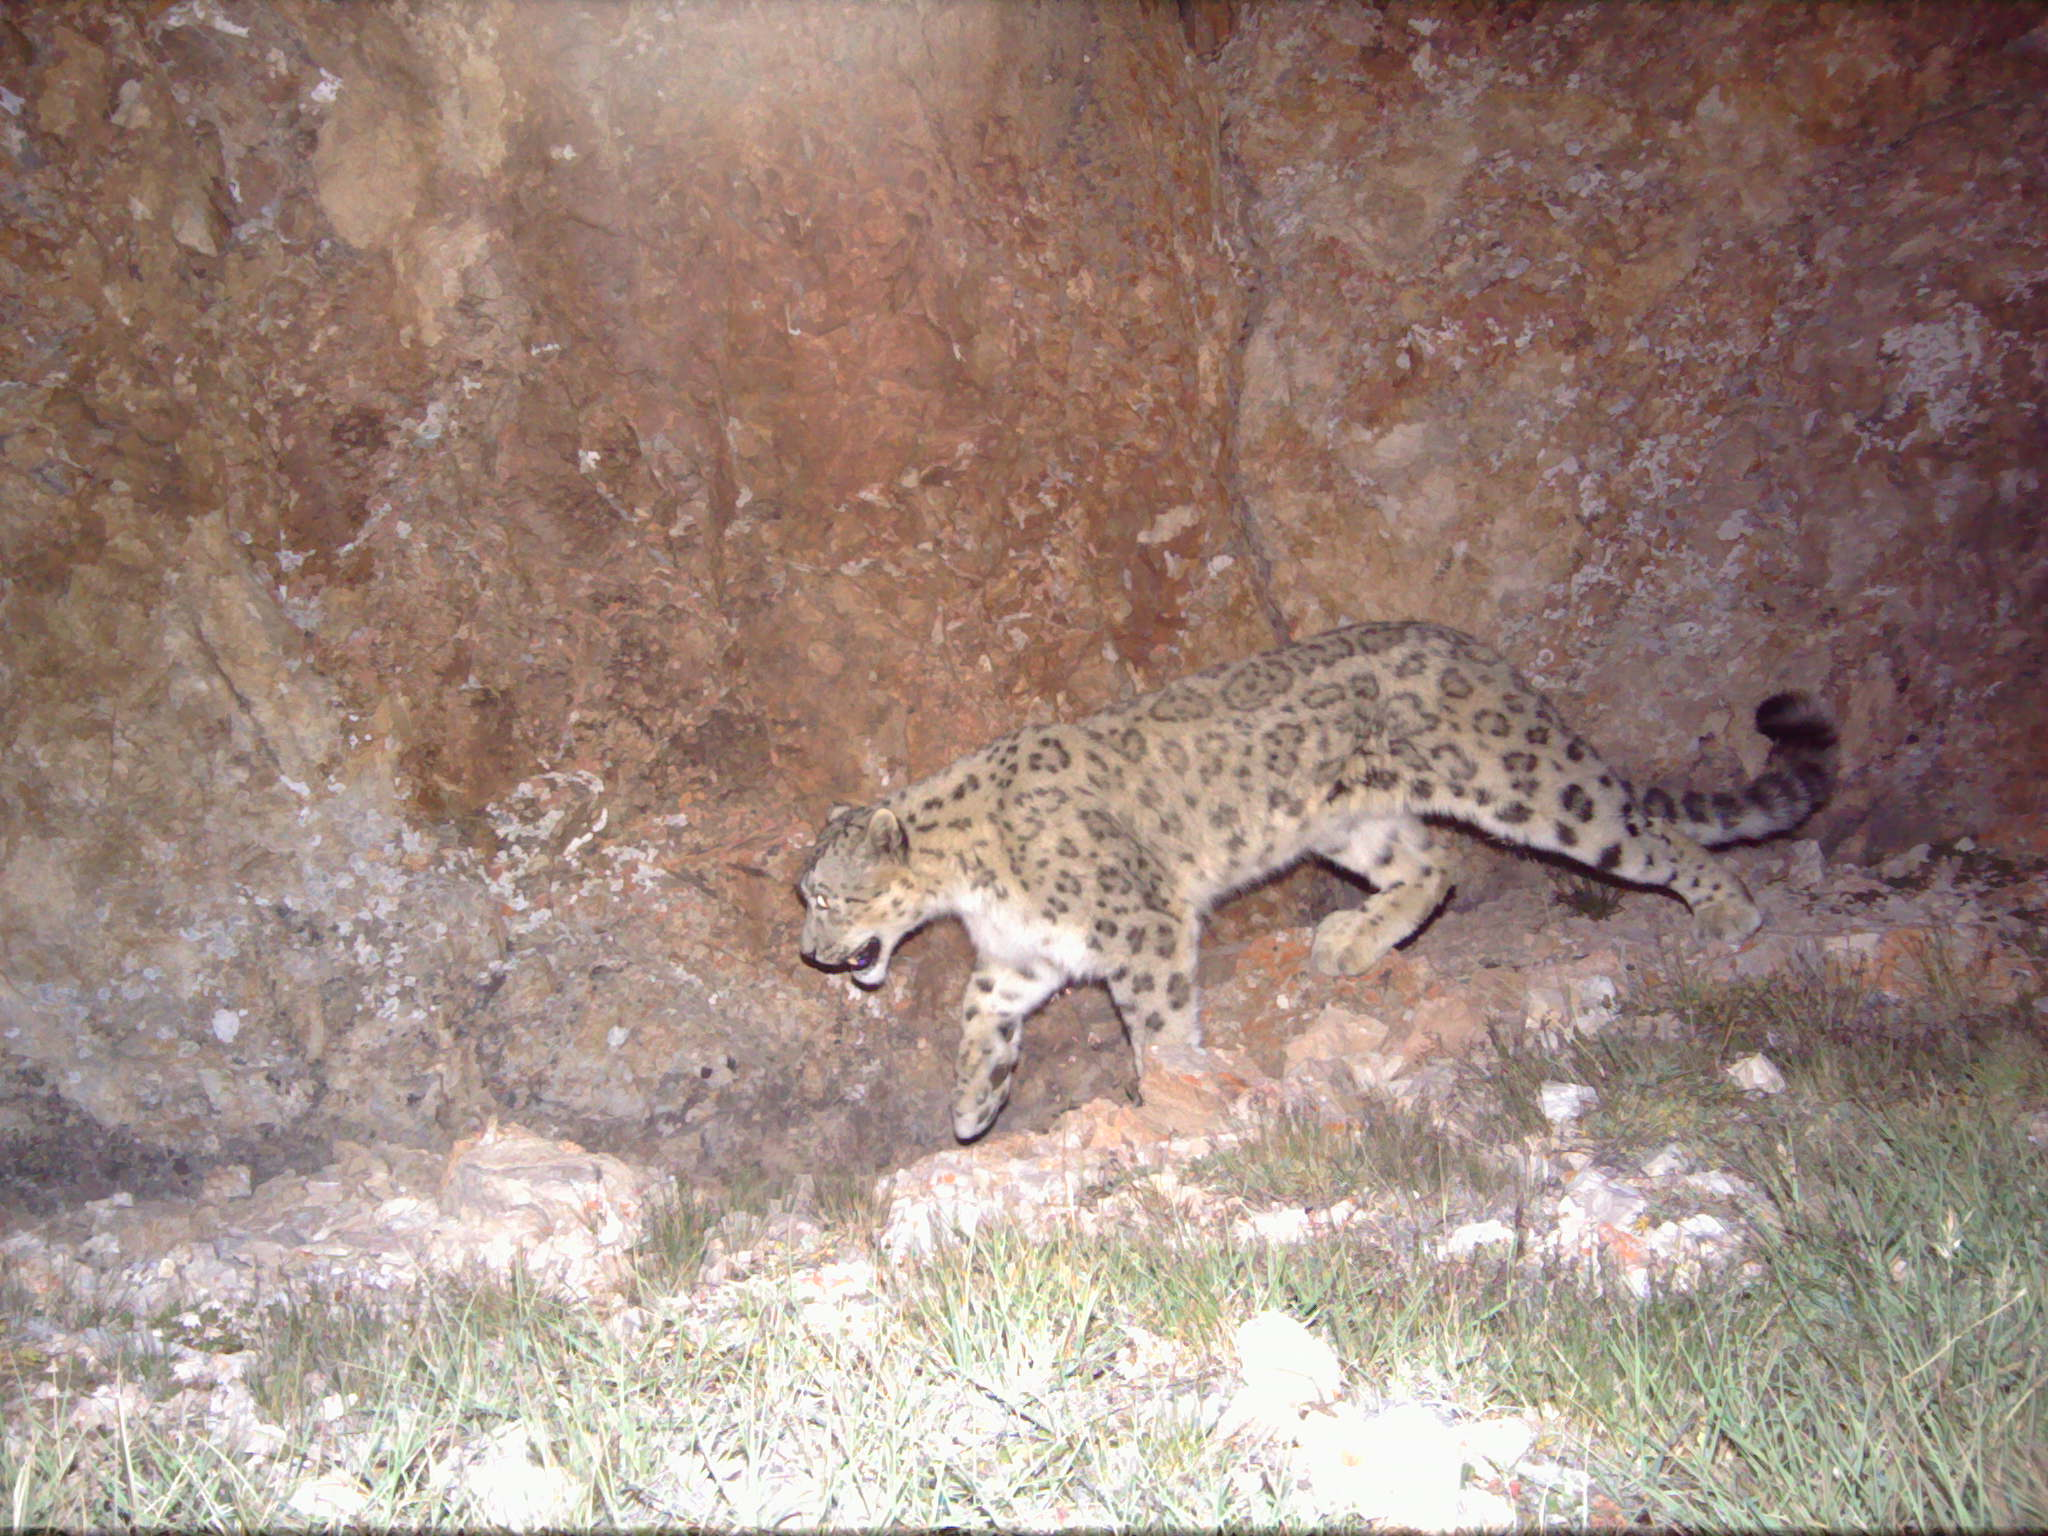Leopard: (769, 592, 1871, 1160)
